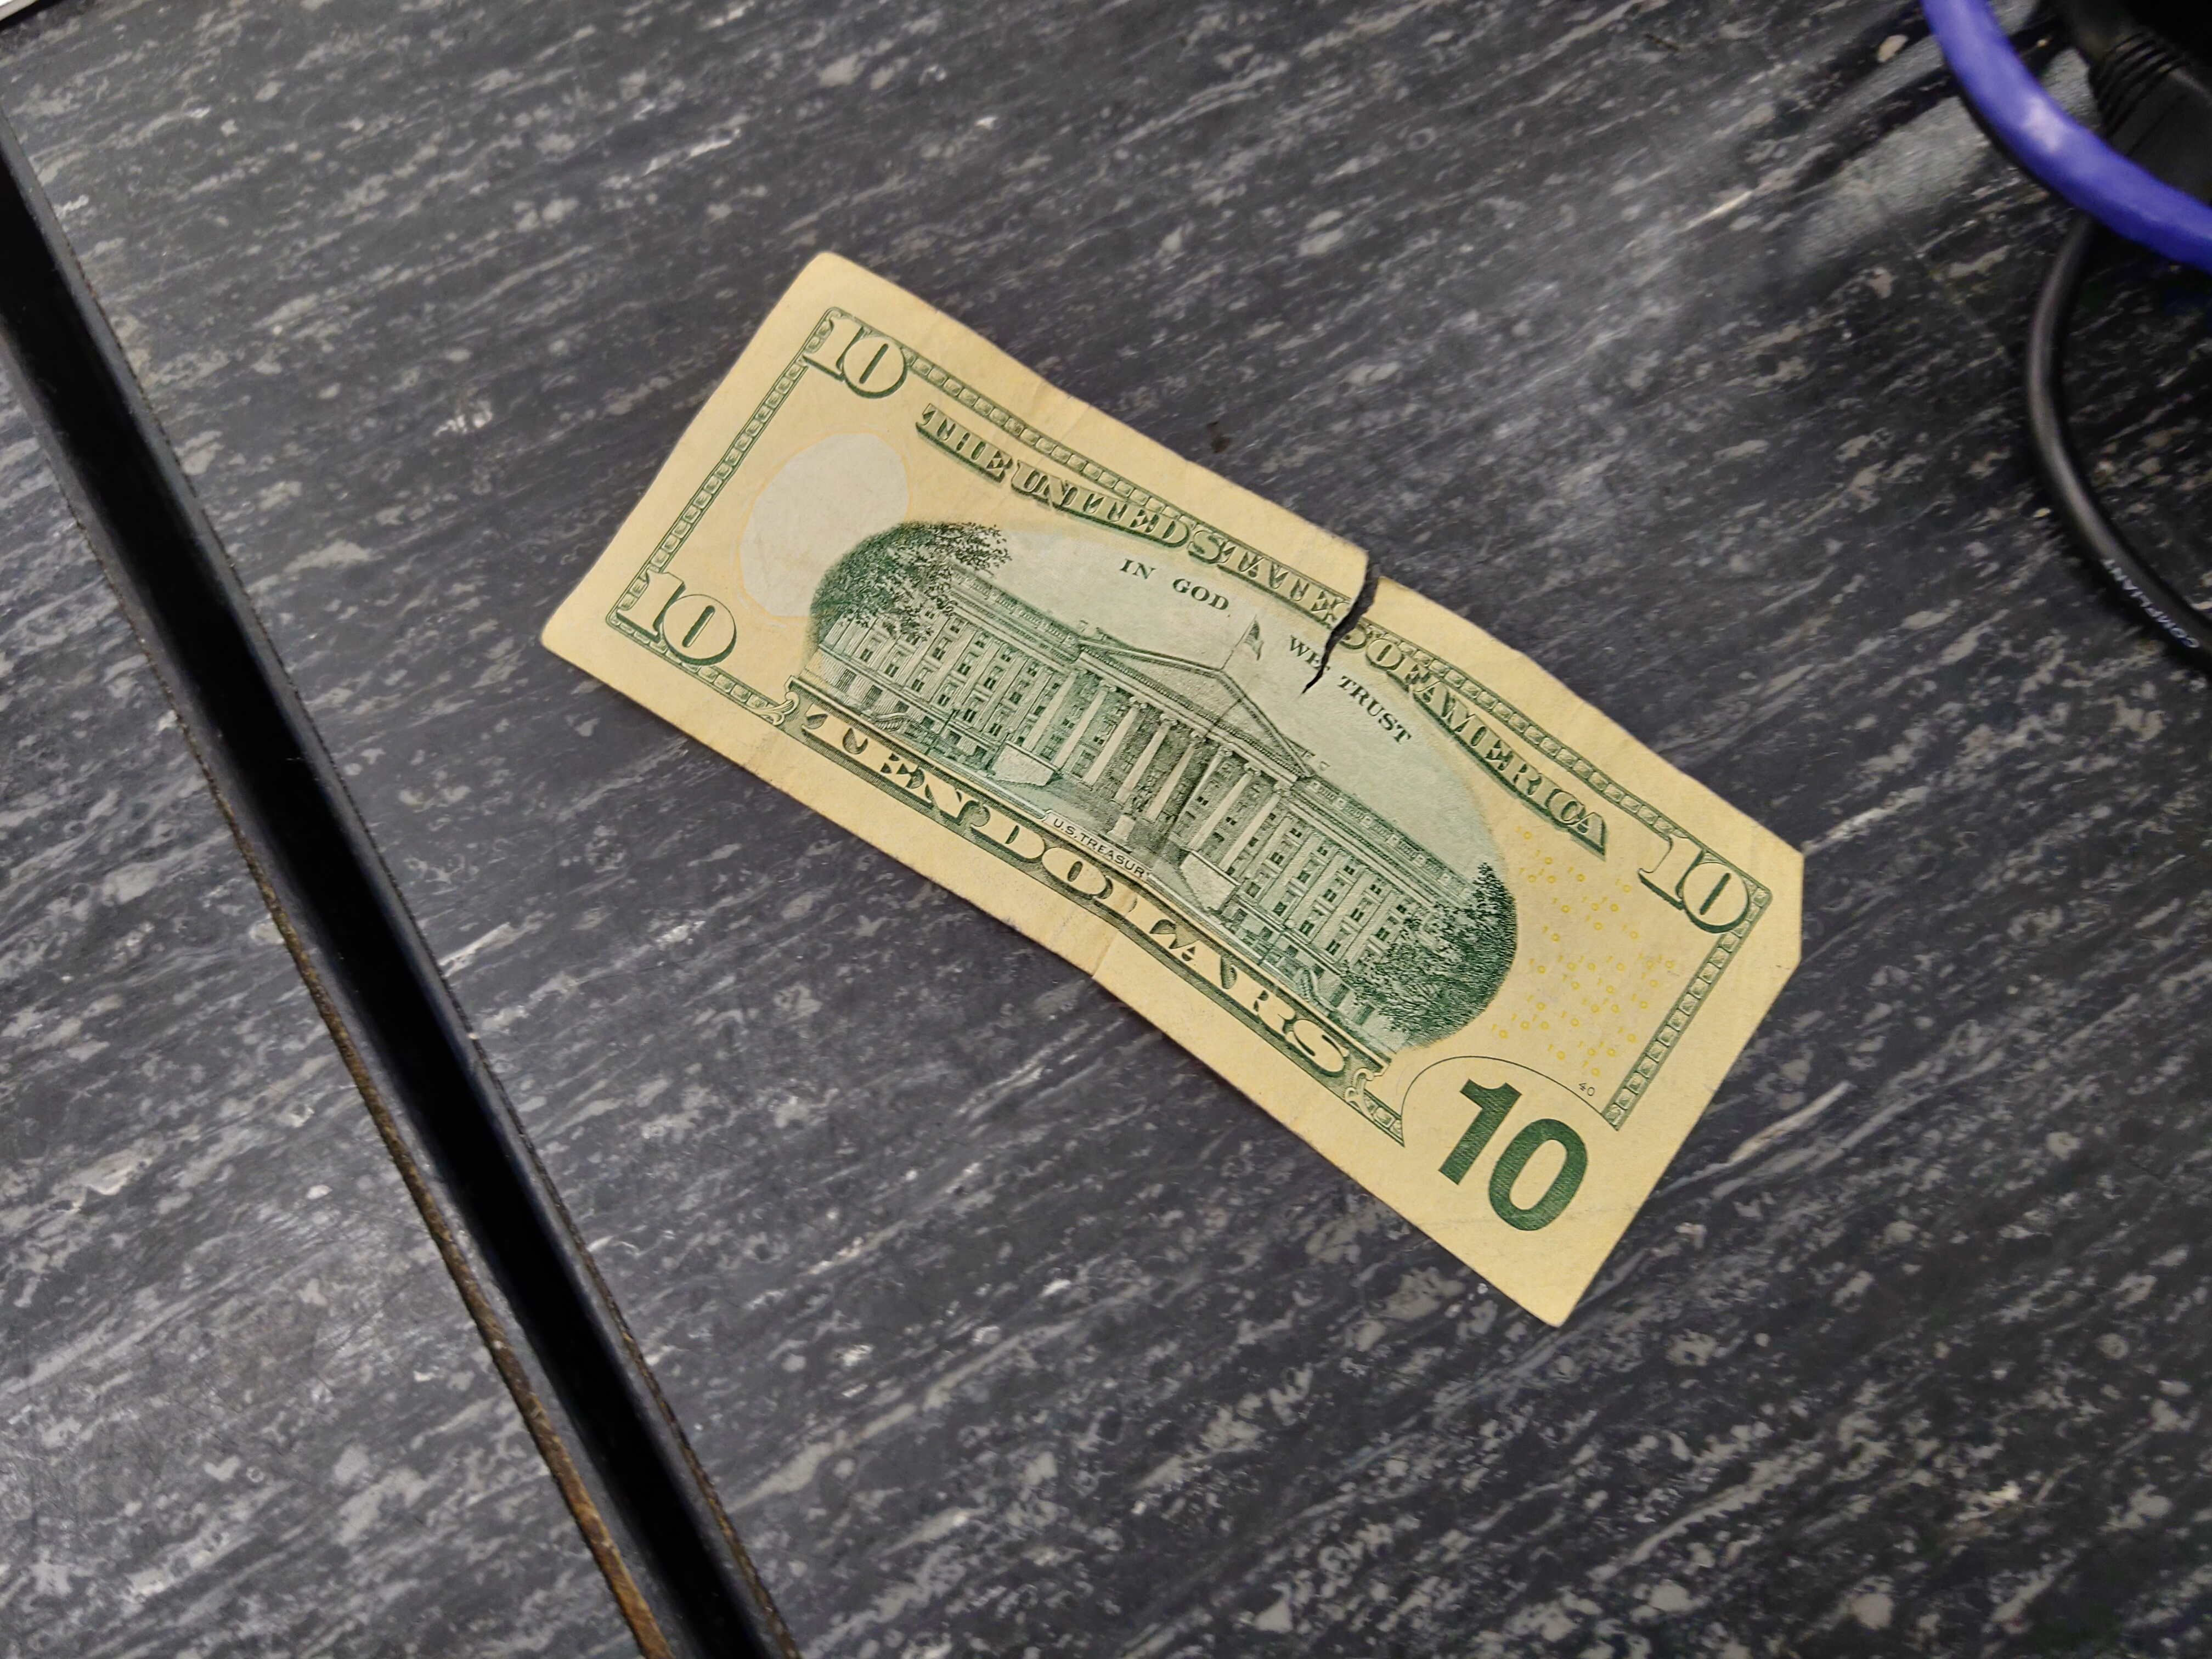TenBill: (533, 247, 1808, 1333)
